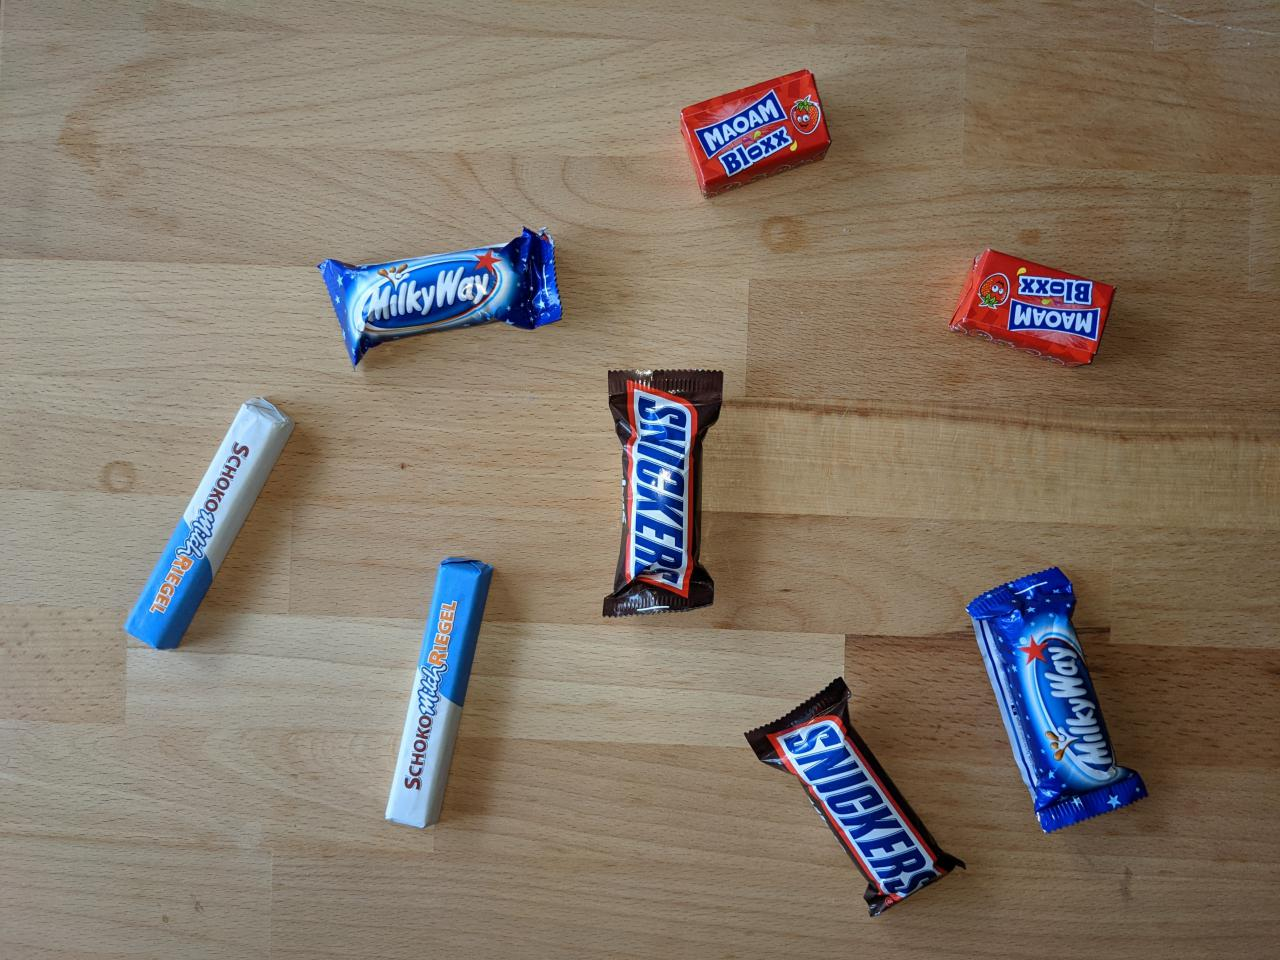MAOAM: (944, 244, 1121, 374), (673, 65, 836, 204)
MilkyWay: (959, 562, 1154, 839), (312, 222, 569, 379)
Schokoriegel: (121, 391, 300, 654), (375, 550, 499, 836)
Snickers: (742, 674, 975, 920), (595, 361, 731, 628)
